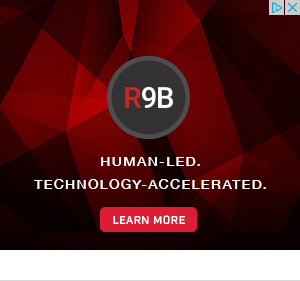fake_button: (93, 201, 204, 242)
